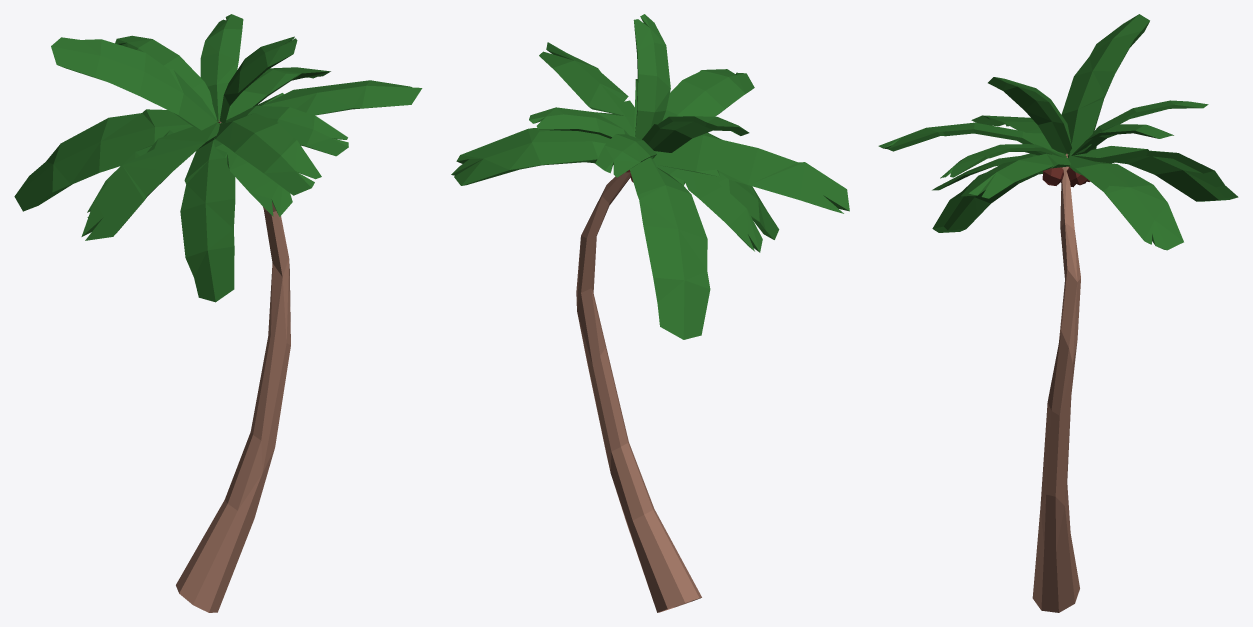
The model's file is Palm C.fbx.
3 views of the same model, side by side, from view 1: azimuth 30°, elevation 25°; view 2: azimuth 150°, elevation 25°; view 3: azimuth 270°, elevation 25° (orthographic). The views are drawn at different scales.
Visible parts, largest first — view 1: Palm C; view 2: Palm C; view 3: Palm C.
Boxes of the visible parts, <box> form: Palm C: <box>14,14,422,612</box>; Palm C: <box>451,14,849,612</box>; Palm C: <box>878,14,1238,612</box>.
Bounding box in the file's own units: 574 × 977 × 570.
